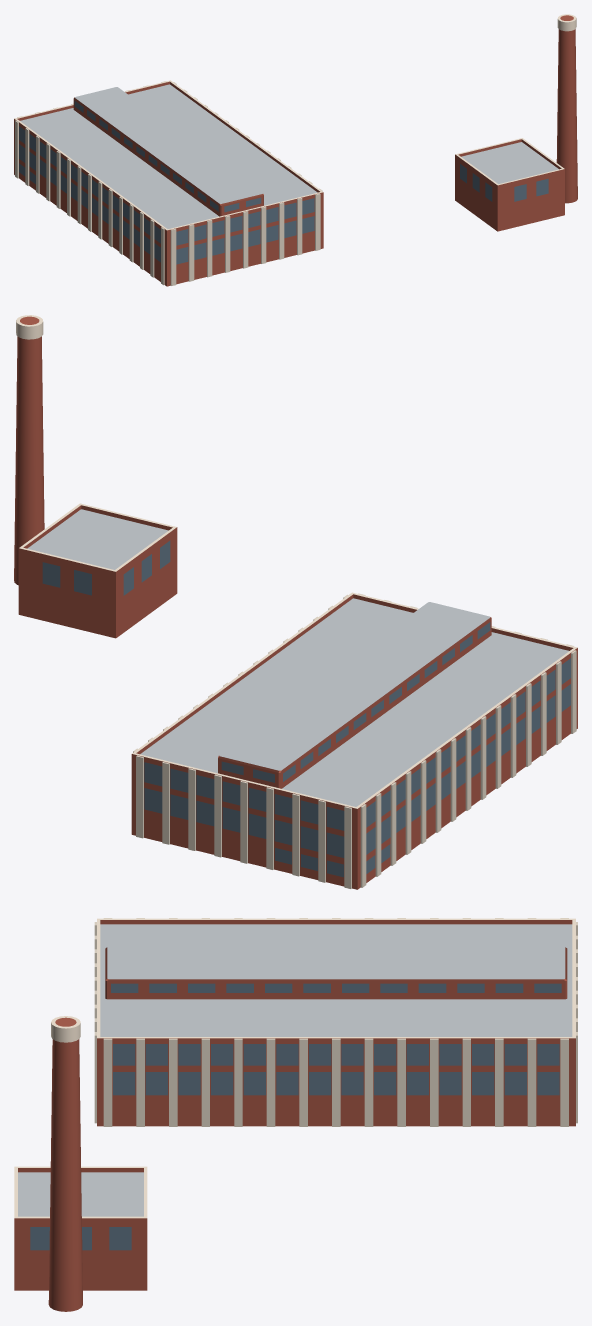
The model's file is clt-chadbourn-mill.glb.
3 views of the same model, one above another, from view 1: azimuth 30°, elevation 25°; view 2: azimuth 150°, elevation 25°; view 3: azimuth 270°, elevation 25° (orthographic). The views are drawn at different scales.
Visible parts, largest first — view 1: Chadbourn Mill; view 2: Chadbourn Mill; view 3: Chadbourn Mill.
Boxes of the visible parts, <box> form: Chadbourn Mill: <box>14,14,577,286</box>; Chadbourn Mill: <box>14,315,577,889</box>; Chadbourn Mill: <box>14,918,577,1311</box>.
Size of the model in its own units: 84.45 by 36.3 by 65.7.
